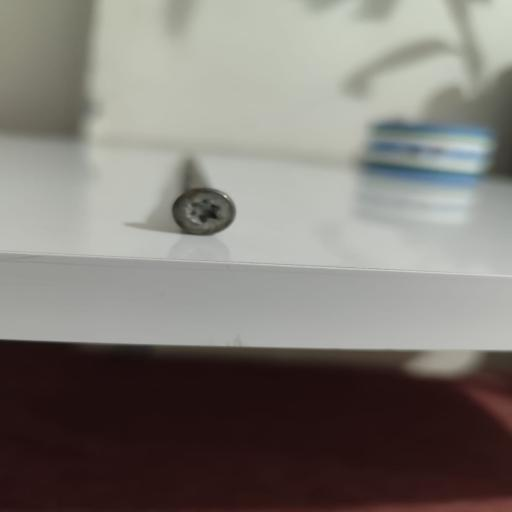Torx: (165, 182, 240, 238)
